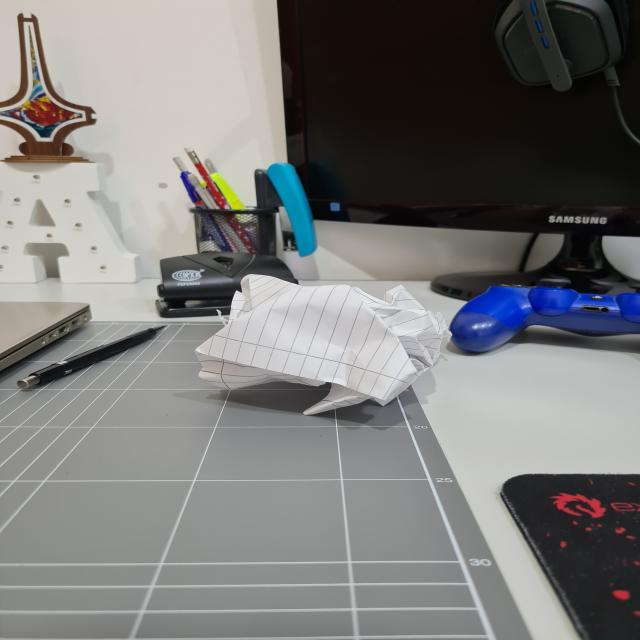Paper: (185, 271, 474, 428)
